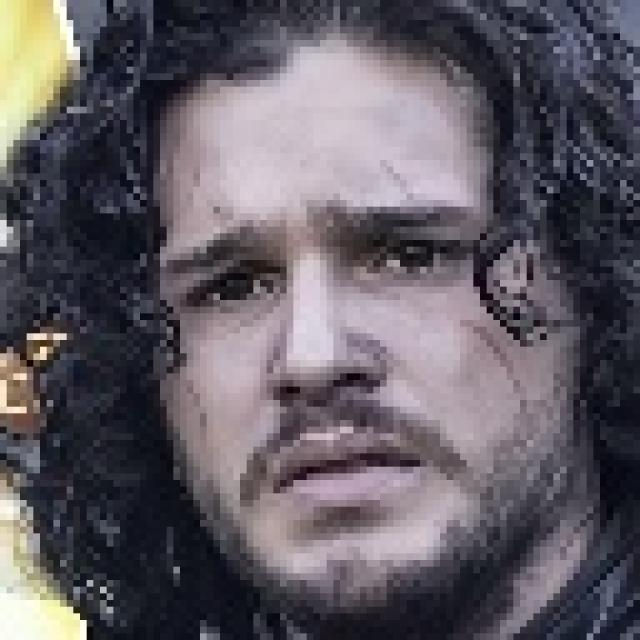sad: (121, 32, 598, 640)
